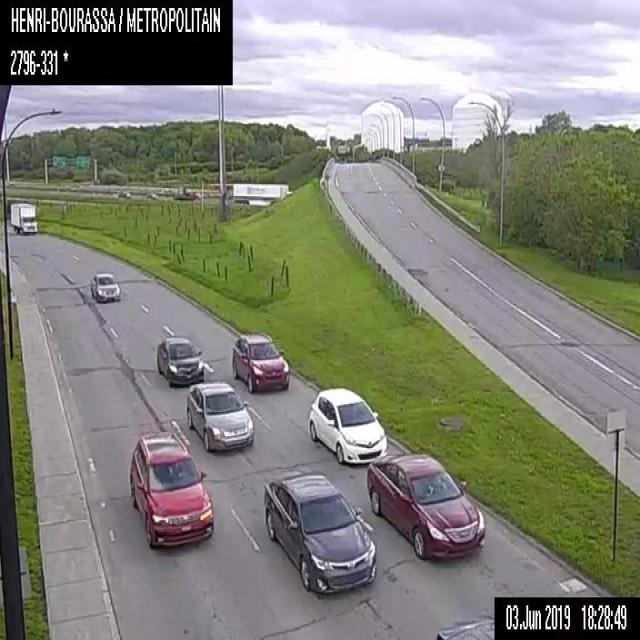vehicle: (264, 469, 376, 593), (366, 451, 488, 564), (130, 428, 213, 551), (308, 386, 386, 464), (186, 381, 253, 452), (230, 332, 288, 392), (156, 336, 203, 384), (436, 615, 494, 639), (230, 180, 292, 201), (8, 198, 37, 234), (91, 272, 120, 300)
